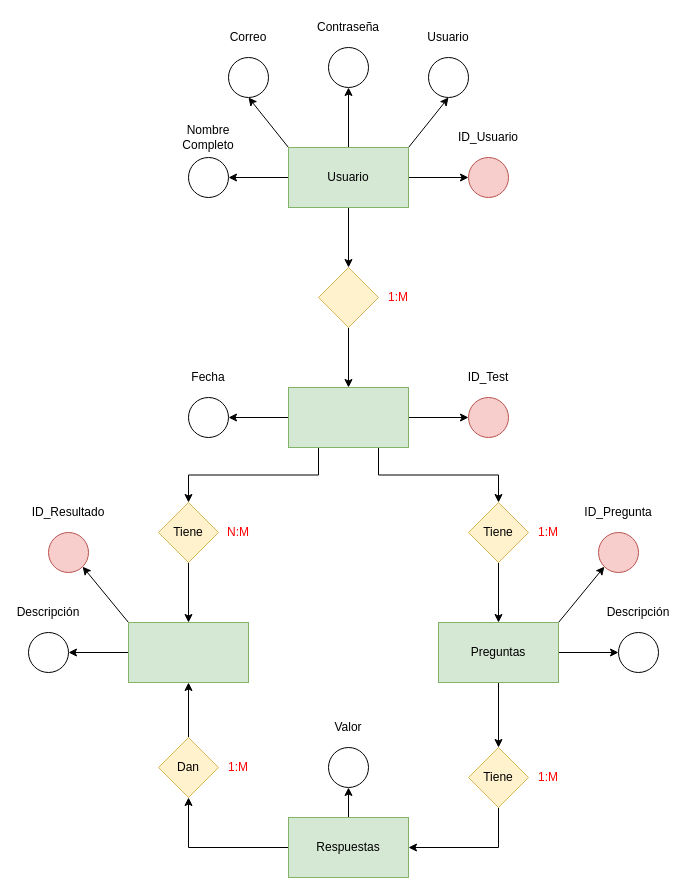
Image size: 687x895. Some labels were removed from this diagram. The centre of each missing label's shape, as x and y in pixels:
"Realiza" goes at pixel 348 297.
"Resultado" goes at pixel 188 652.
"Test" goes at pixel 348 417.
